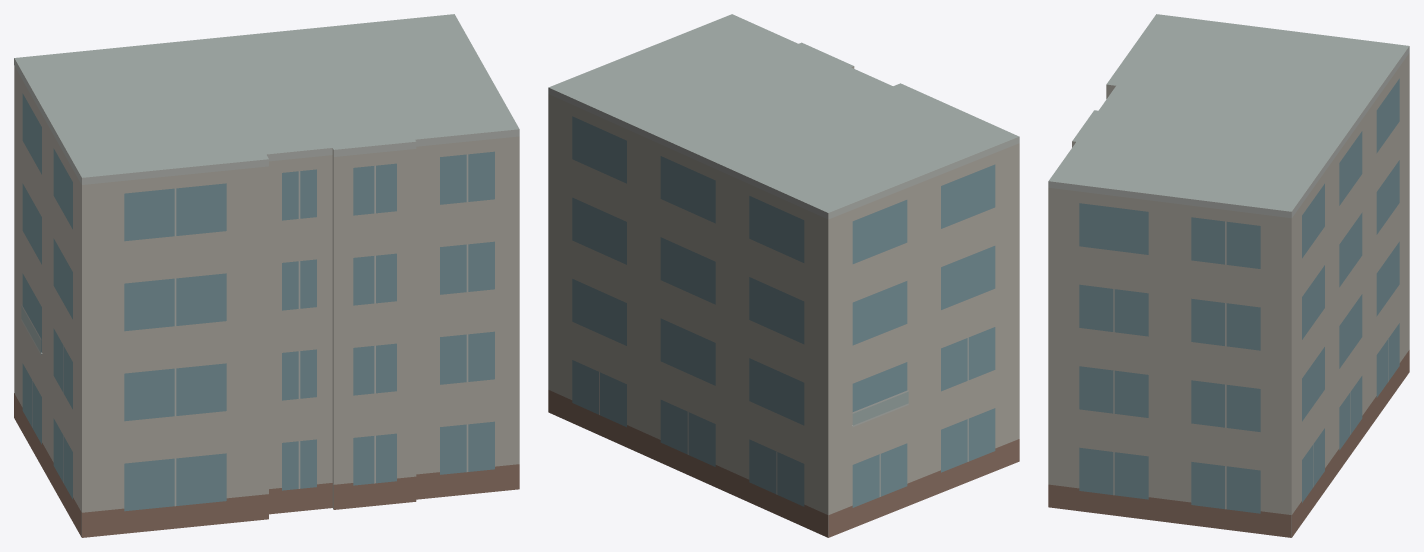
File: survey-upis-32638731.glb
3 renders of one model, left to right at view 1: azimuth 30°, elevation 25°; view 2: azimuth 150°, elevation 25°; view 3: azimuth 270°, elevation 25°, orthographic. The views are drawn at different scales.
Parts seen in each view (by area): view 1: survey-upis-32638731.tmp; view 2: survey-upis-32638731.tmp; view 3: survey-upis-32638731.tmp.
Boxes of the visible parts, x1,y1,x2,y2 form: survey-upis-32638731.tmp: (14,14,519,537); survey-upis-32638731.tmp: (548,14,1019,537); survey-upis-32638731.tmp: (1048,14,1409,537).
Size of the model in its own units: 15.88 by 12.2 by 12.26.
